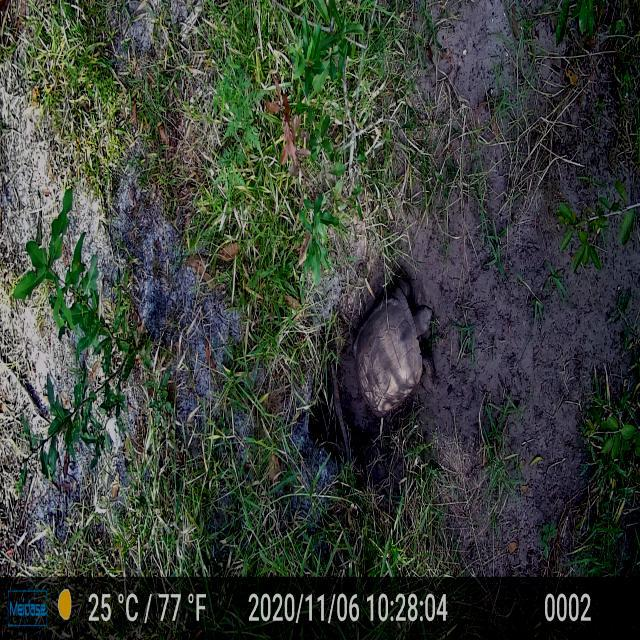tortoise: (350, 262, 436, 424)
